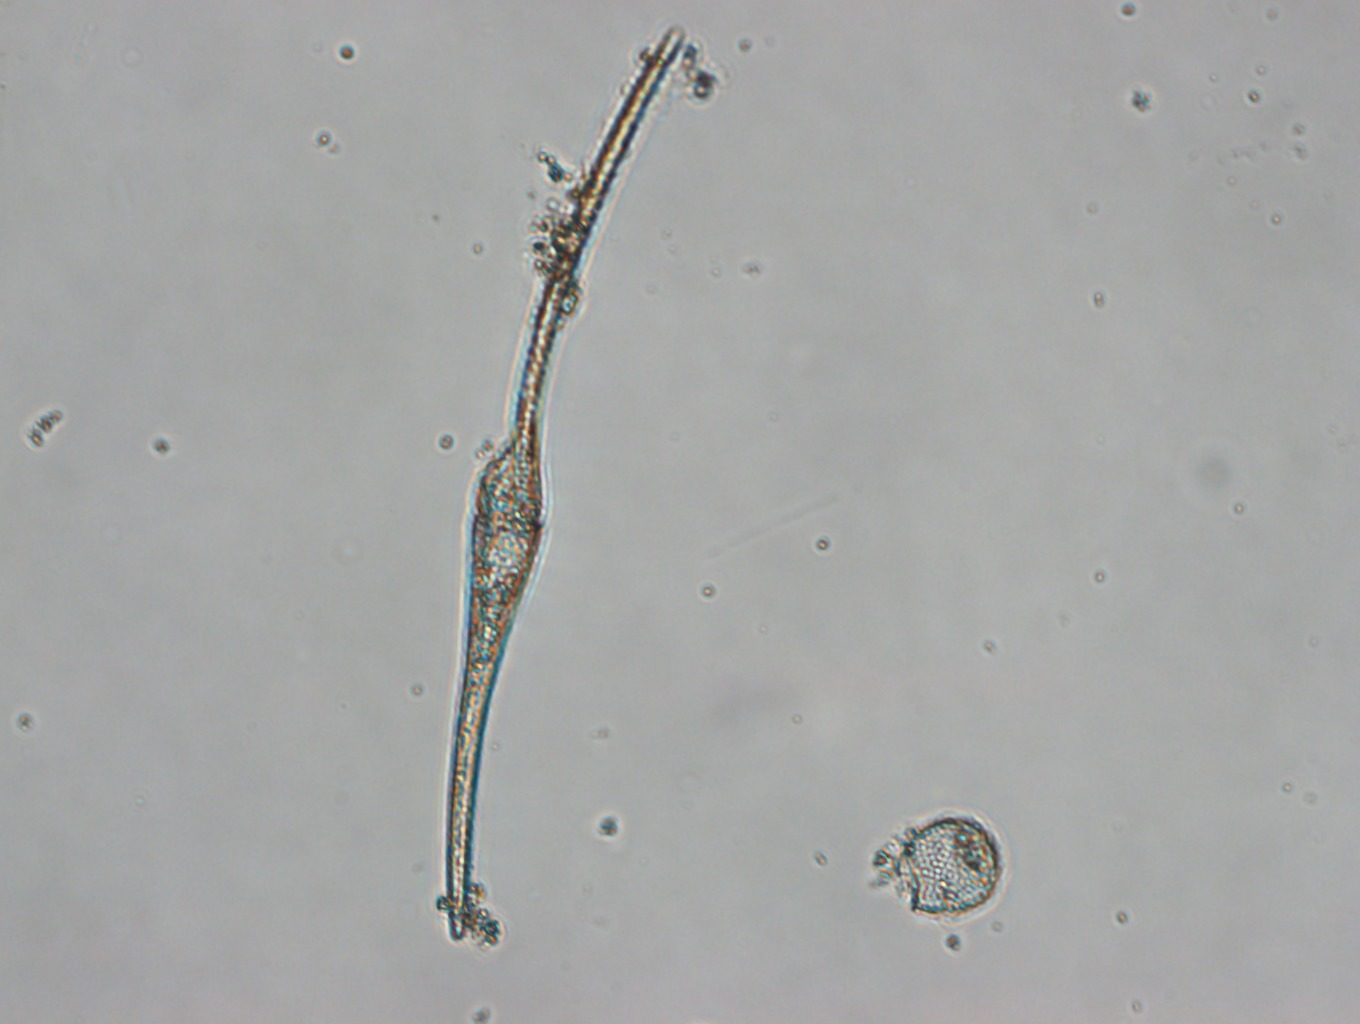ceratium fusus: (446, 24, 684, 940)
